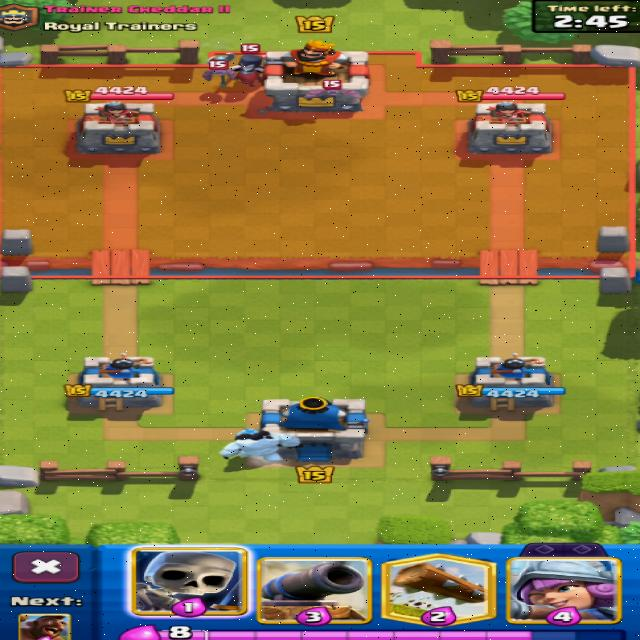Enemy-Bat: (202, 54, 235, 86), (305, 80, 360, 99)
Enemy-KingTower: (264, 40, 369, 113)
Enemy-NightWitch: (222, 45, 263, 86)
Enemy-PrincessTower: (78, 101, 159, 154), (469, 101, 550, 152)
Player-IceGolem: (220, 429, 299, 461)
Player-KingTower: (260, 397, 369, 462)
Player-PrincessTower: (65, 353, 173, 409), (458, 356, 554, 410)
